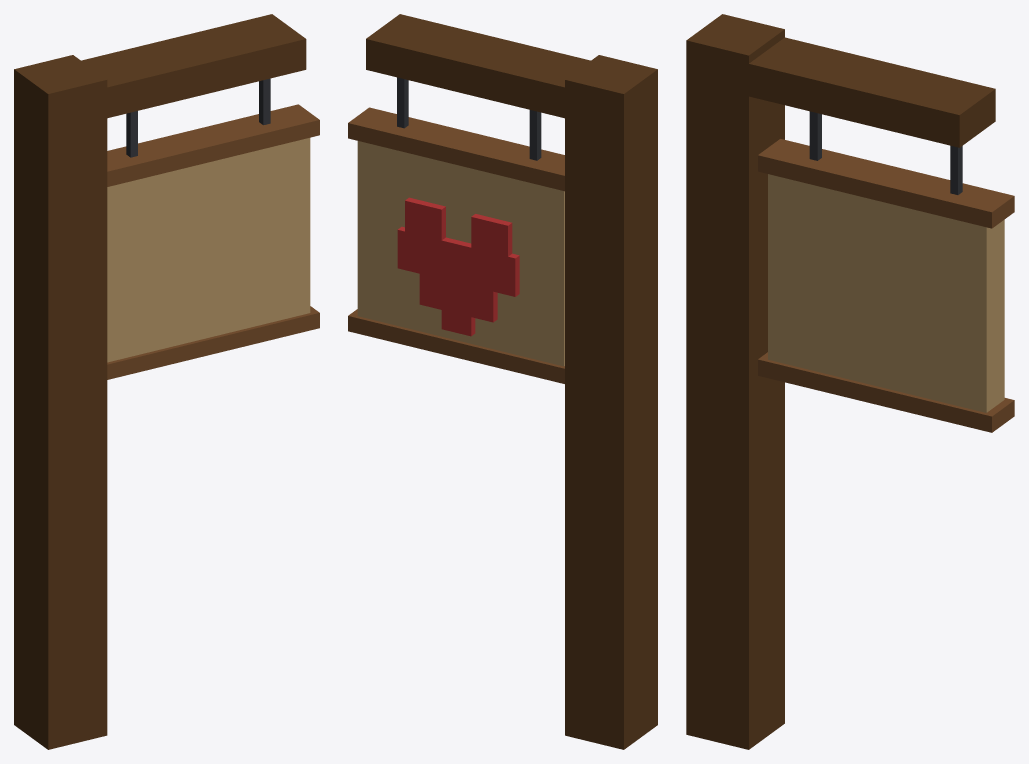
The model's file is xma-gate-sign.glb.
3 renders of one model, left to right at view 1: azimuth 30°, elevation 25°; view 2: azimuth 150°, elevation 25°; view 3: azimuth 330°, elevation 25°, orthographic. The views are drawn at different scales.
Parts seen in each view (by area): view 1: box-prop; view 2: box-prop; view 3: box-prop.
Part boxes in pixels (left/top/right/bottom): box-prop: left=14, top=14, right=319, bottom=749; box-prop: left=348, top=14, right=657, bottom=749; box-prop: left=686, top=14, right=1014, bottom=749.
Bounding box in the file's own units: 0.76 × 1.7 × 0.16.
